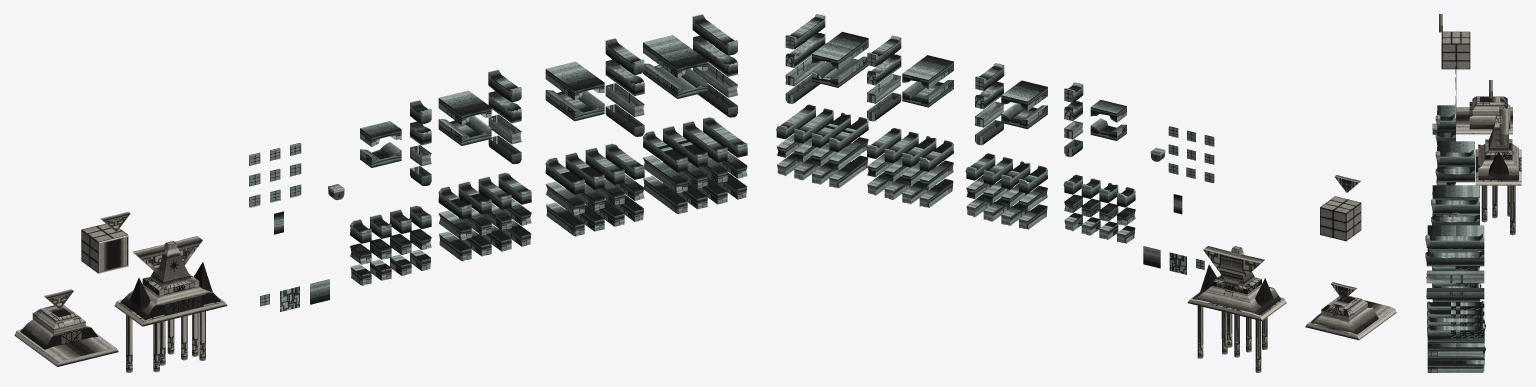
File: ModularAssets.fbx
3 renders of one model, left to right at view 1: azimuth 30°, elevation 25°; view 2: azimuth 150°, elevation 25°; view 3: azimuth 270°, elevation 25°, orthographic. The views are drawn at different scales.
Parts seen in each view (by area): view 1: altar.learn.power1, altar.activate.power1, 1heightnwidthplatform.6, 1widthplatform.6.up, platform.6.left.up, platform.6.centerright.up, platform.6.centerleft.up, platform.6.right.up, platform.6.left.center.002, platform.6.left.down, platform.inner.6.right.up, 1widthplatform.5.up (+21 smaller); view 2: altar.learn.power1, altar.activate.power1, 1heightnwidthplatform.6, platform.6.left.up, 1widthplatform.6.up, platform.6.centerright.up, platform.6.right.up, platform.6.centerleft.up, platform.6.left.center.002, platform.6.left.down, platform.inner.6.right.up, 1heightnwidthplatform.5 (+12 smaller); view 3: altar.learn.power1, altar.activate.power1, 1widthplatform.6.up, 1widthplatform.6.middle, 1heightnwidthplatform.6, platform.6.right.up, platform.6.right.center, platform.6.right.down, 1widthplatform.6.down, 1heightnwidthplatform.5, 1widthplatform.4.up, 1heightnwidthplatform.4 (+31 smaller).
Boxes of the visible parts, x1=… form: altar.learn.power1: x1=114, y1=236, x2=227, y2=372; altar.activate.power1: x1=14, y1=289, x2=118, y2=366; 1heightnwidthplatform.6: x1=692, y1=14, x2=737, y2=55; 1widthplatform.6.up: x1=693, y1=35, x2=737, y2=76; platform.6.left.up: x1=643, y1=131, x2=687, y2=172; platform.6.centerright.up: x1=683, y1=121, x2=727, y2=162; platform.6.centerleft.up: x1=663, y1=126, x2=707, y2=167; platform.6.right.up: x1=703, y1=117, x2=747, y2=157; platform.6.left.center.002: x1=643, y1=155, x2=687, y2=193; platform.6.left.down: x1=643, y1=176, x2=687, y2=214; platform.inner.6.right.up: x1=643, y1=40, x2=687, y2=77; 1widthplatform.5.up: x1=605, y1=59, x2=644, y2=96; altar.learn.power1: x1=1187, y1=246, x2=1286, y2=372; altar.activate.power1: x1=1305, y1=282, x2=1396, y2=340; 1heightnwidthplatform.6: x1=785, y1=14, x2=825, y2=49; platform.6.left.up: x1=829, y1=117, x2=868, y2=151; 1widthplatform.6.up: x1=785, y1=32, x2=825, y2=67; platform.6.centerright.up: x1=794, y1=108, x2=833, y2=143; platform.6.right.up: x1=776, y1=104, x2=815, y2=139; platform.6.centerleft.up: x1=812, y1=112, x2=850, y2=147; platform.6.left.center.002: x1=829, y1=137, x2=868, y2=170; platform.6.left.down: x1=829, y1=155, x2=867, y2=188; platform.inner.6.right.up: x1=829, y1=36, x2=868, y2=69; 1heightnwidthplatform.5: x1=867, y1=35, x2=901, y2=66; altar.learn.power1: x1=1475, y1=108, x2=1521, y2=235; altar.activate.power1: x1=1456, y1=80, x2=1512, y2=134; 1widthplatform.6.up: x1=1425, y1=251, x2=1484, y2=266; 1widthplatform.6.middle: x1=1426, y1=270, x2=1484, y2=283; 1heightnwidthplatform.6: x1=1425, y1=233, x2=1484, y2=248; platform.6.right.up: x1=1427, y1=323, x2=1484, y2=338; platform.6.right.center: x1=1427, y1=343, x2=1485, y2=355; platform.6.right.down: x1=1427, y1=360, x2=1484, y2=372; 1widthplatform.6.down: x1=1426, y1=288, x2=1484, y2=299; 1heightnwidthplatform.5: x1=1431, y1=198, x2=1479, y2=213; 1widthplatform.4.up: x1=1435, y1=167, x2=1474, y2=182; 1heightnwidthplatform.4: x1=1435, y1=150, x2=1474, y2=165.
Bounding box in the file's own units: 6815 × 2242 × 1022.
